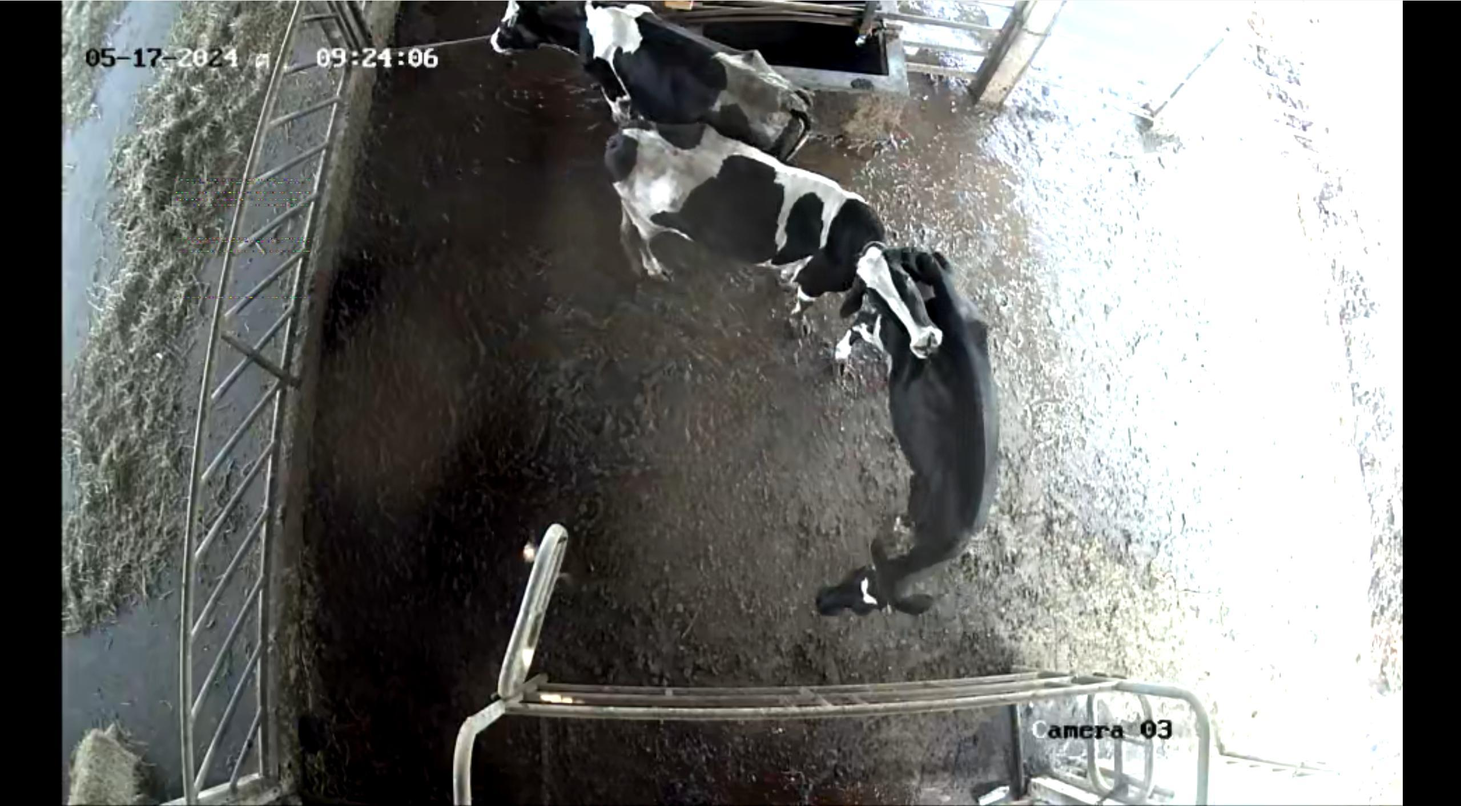propping: (814, 216, 955, 378)
stand: (805, 244, 1009, 637), (494, 1, 820, 152)
